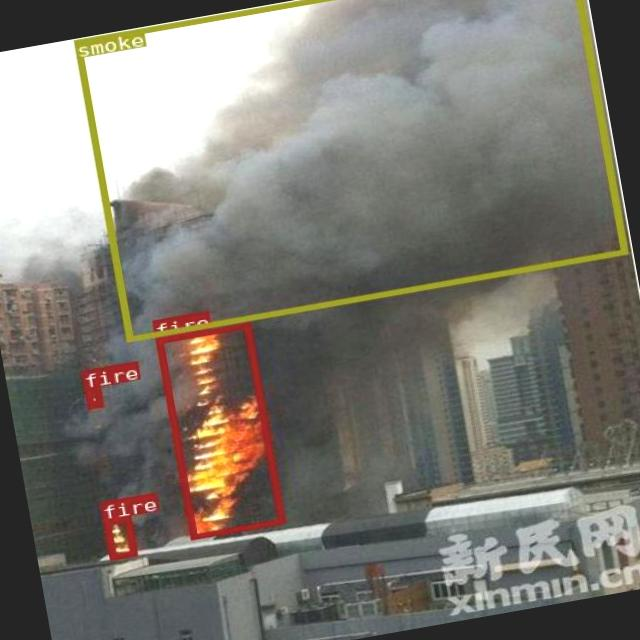fire: (154, 322, 282, 538), (102, 516, 136, 558), (84, 385, 102, 408)
smoke: (72, 0, 626, 341)
